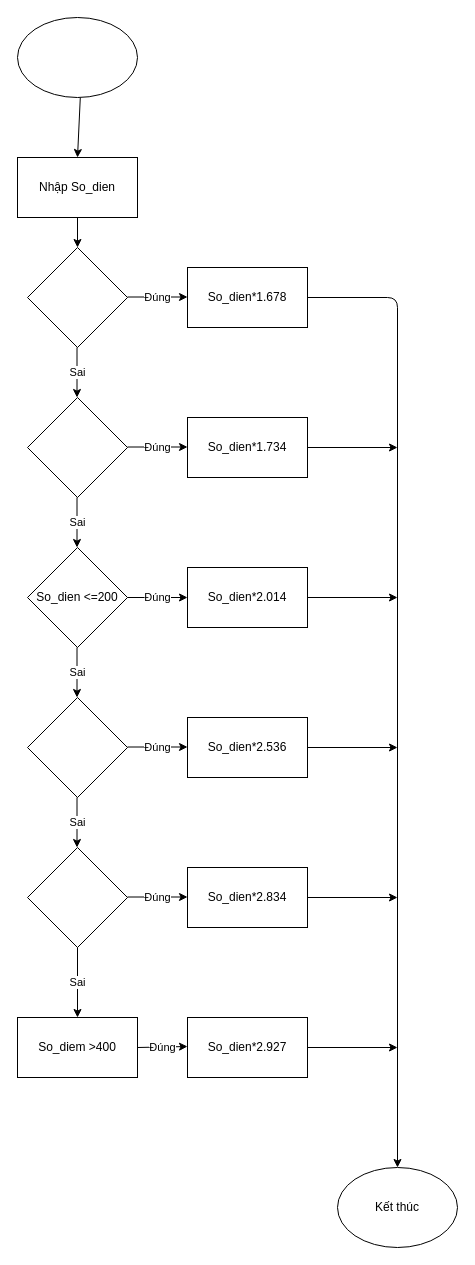
Image size: 475x1265. Some labels were removed from this diagram. The centre of each missing label's shape, as x and y in pixels:
Bắt đầu: the point at 77,57
So_dien <=100: the point at 77,447
So_dien <=400: the point at 77,897
So_dien <=50: the point at 77,297
So_dien<=300: the point at 77,747
